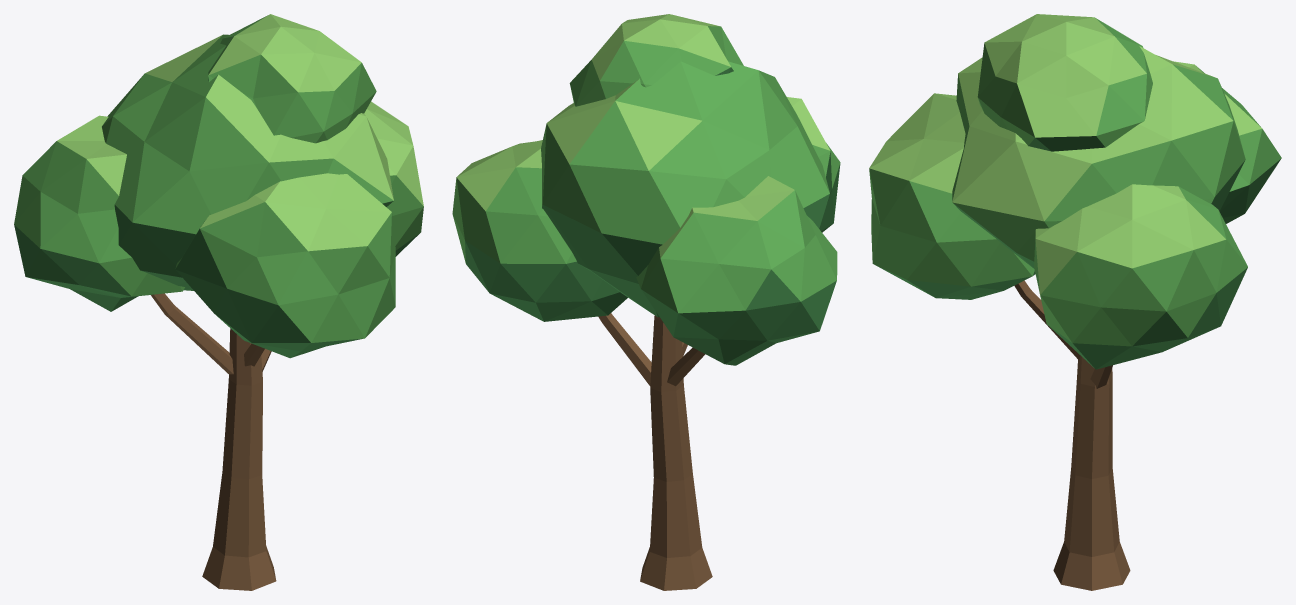
File: tree_broadleaf_a.glb
3 renders of one model, left to right at view 1: azimuth 30°, elevation 25°; view 2: azimuth 150°, elevation 25°; view 3: azimuth 270°, elevation 25°, orthographic. The views are drawn at different scales.
Parts seen in each view (by area): view 1: tree_broadleaf_a; view 2: tree_broadleaf_a; view 3: tree_broadleaf_a.
Boxes of the visible parts, box(x1,y1,x2,y2) form: tree_broadleaf_a: box(14, 14, 423, 590); tree_broadleaf_a: box(452, 14, 840, 590); tree_broadleaf_a: box(869, 14, 1281, 590).
Size of the model in its own units: 6.05 by 8.54 by 5.64.
